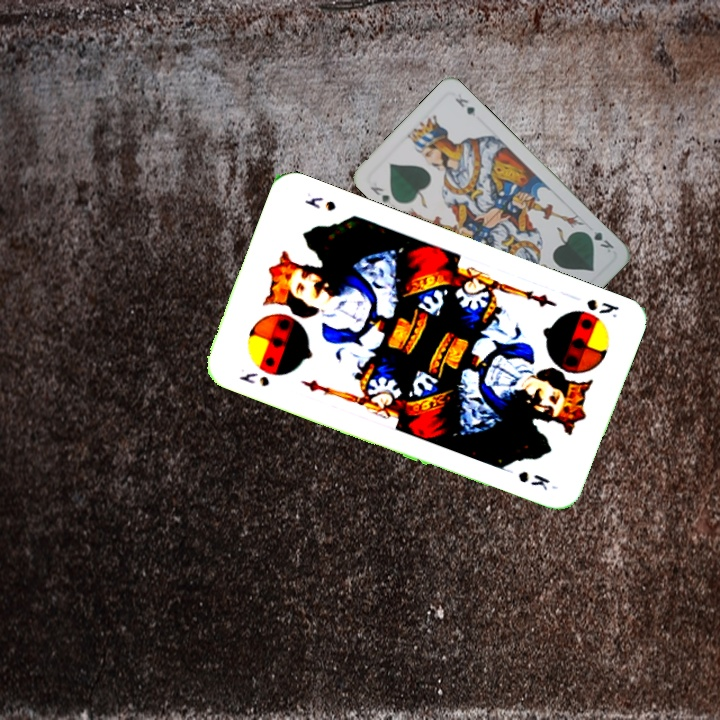GK: (581, 227, 617, 255), (366, 182, 395, 207)
SK: (582, 294, 622, 320), (235, 368, 273, 389)
